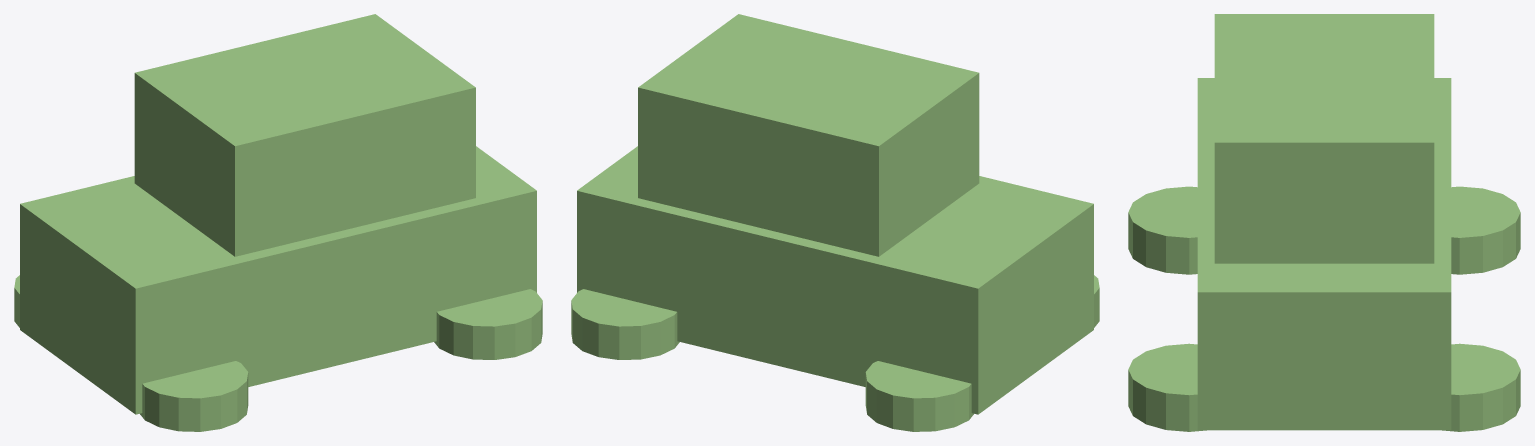
Rendered from tech_127.glb.
3 renders of one model, left to right at view 1: azimuth 30°, elevation 25°; view 2: azimuth 150°, elevation 25°; view 3: azimuth 270°, elevation 25°, orthographic. The views are drawn at different scales.
Visible parts, largest first — view 1: world; view 2: world; view 3: world.
Part boxes in pixels (x1,y1,x2,y2): world: (14,14,542,431); world: (571,14,1099,431); world: (1128,14,1520,431).
Bounding box in the file's own units: 1.5 × 0.86 × 1.16.
